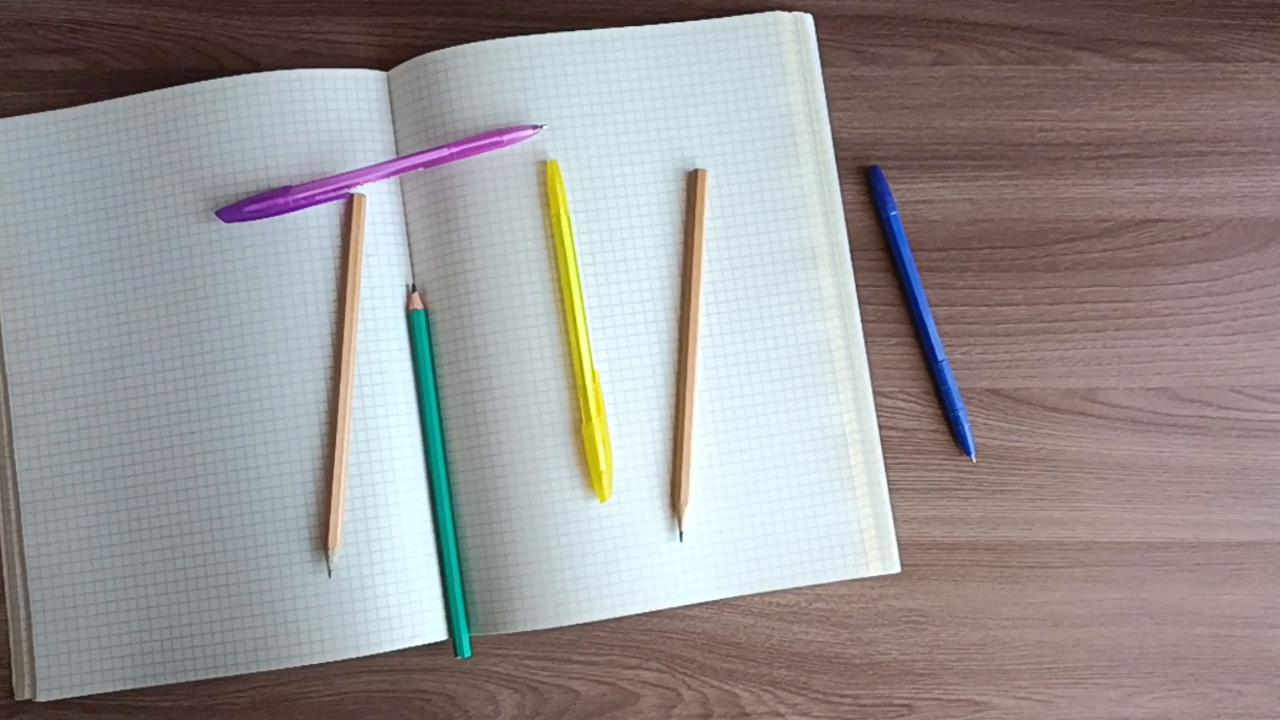pen: (861, 156, 983, 470), (215, 121, 549, 226), (539, 156, 618, 507)
pencil: (399, 280, 478, 663), (320, 190, 370, 582), (664, 158, 712, 545)
